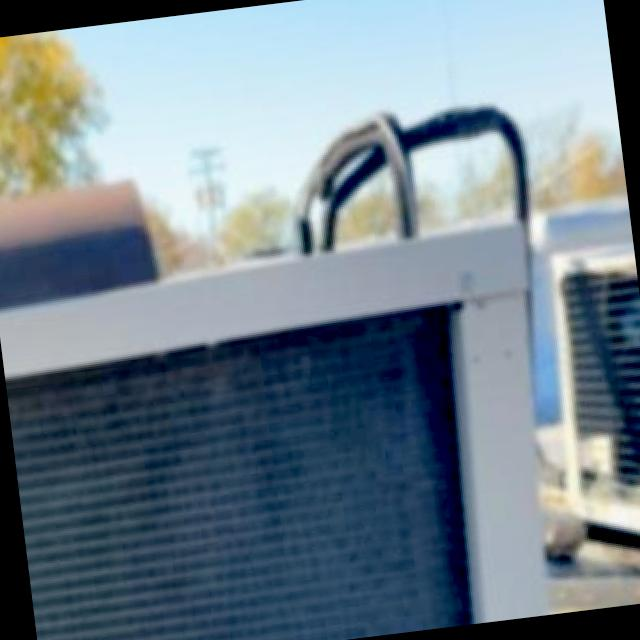SPLIT-SYSTEM: (0, 218, 573, 640)
